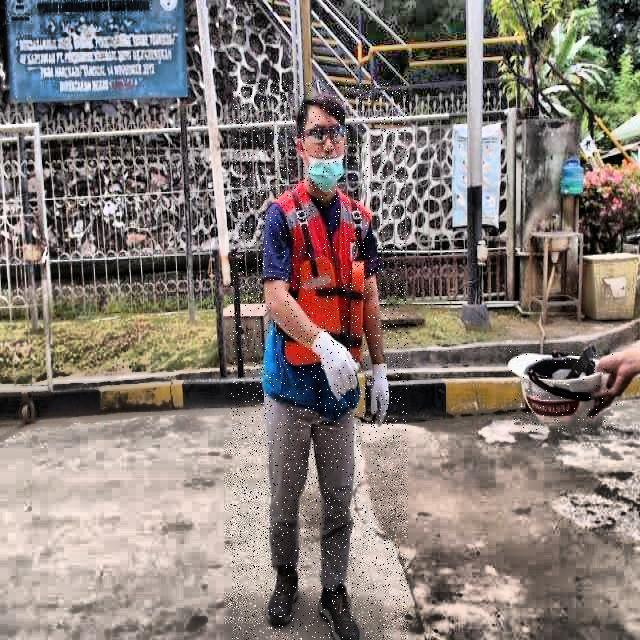safety_helmet: (508, 348, 617, 432)
safety_jacket: (264, 177, 370, 410)
